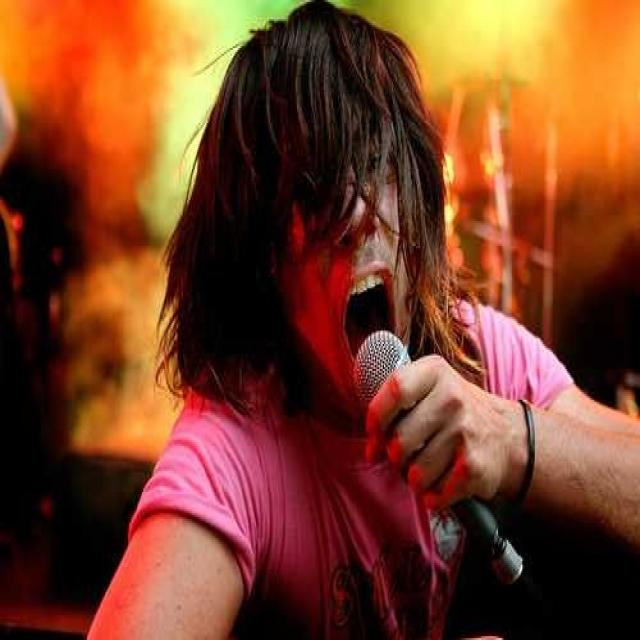microphone: (347, 326, 524, 590)
